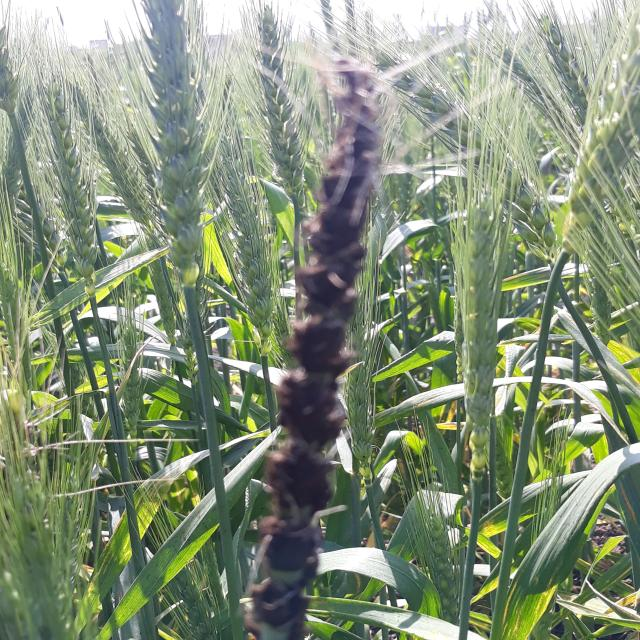loose_charred: (198, 53, 467, 639)
yellow_rust: (71, 502, 178, 604), (493, 565, 559, 640), (562, 584, 640, 632), (415, 379, 468, 445), (130, 460, 190, 517), (459, 510, 522, 555), (600, 329, 640, 383), (307, 590, 360, 630), (464, 572, 498, 606)
